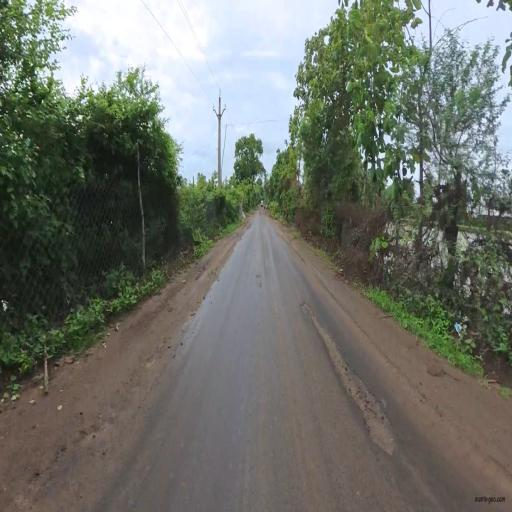ravelling: (288, 276, 408, 471)
